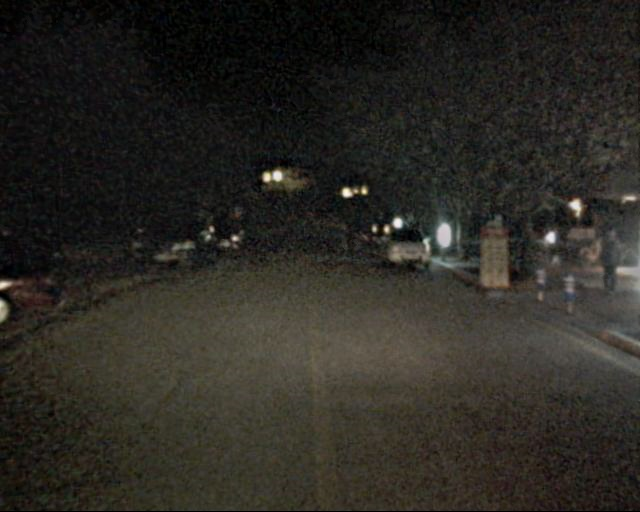person: (591, 229, 622, 305)
